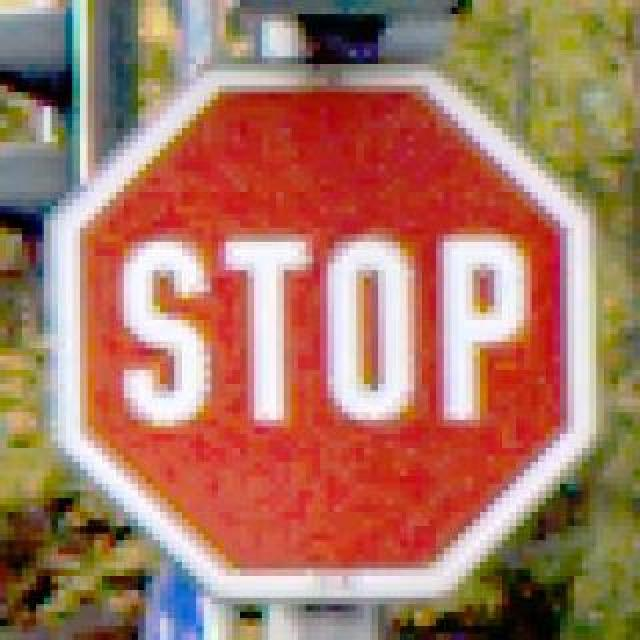stop: (38, 50, 598, 598)
